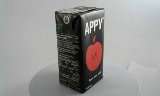appy: (49, 5, 98, 94)
